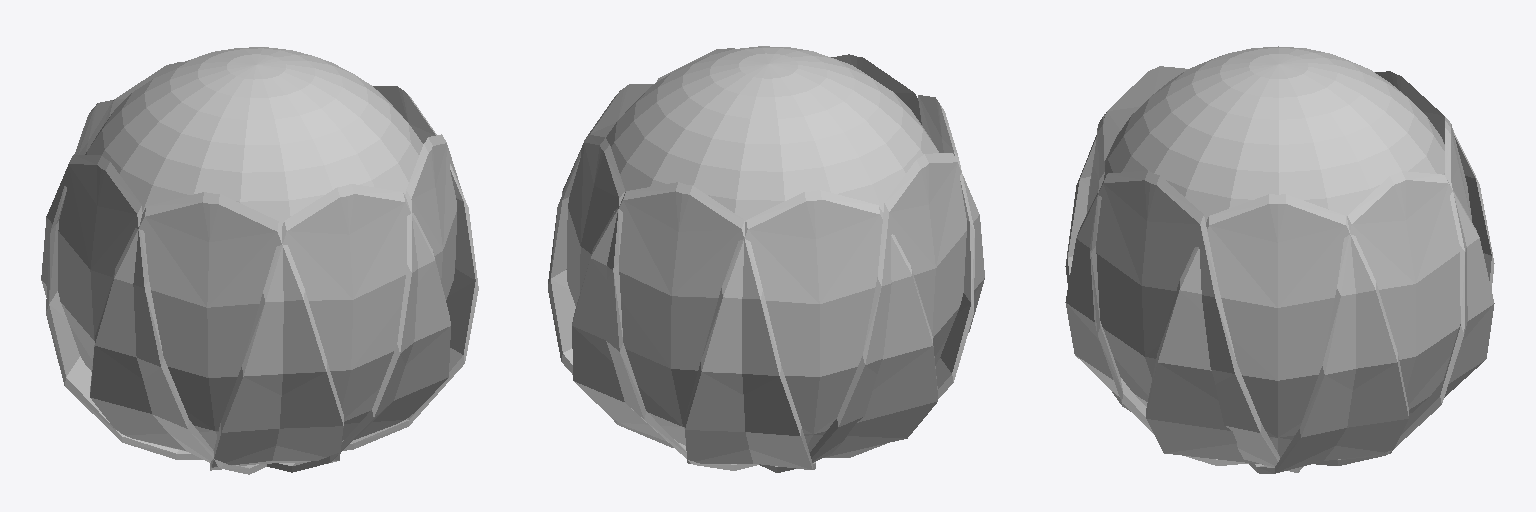
The model's file is CabbagePlant.obj.
3 views of the same model, side by side, from view 1: azimuth 30°, elevation 25°; view 2: azimuth 150°, elevation 25°; view 3: azimuth 270°, elevation 25° (orthographic).
Visible parts, largest first — view 1: pSphere2, polySurface6, polySurface5, polySurface2, polySurface7; view 2: polySurface7, pSphere2, polySurface5, polySurface2, polySurface6; view 3: polySurface2, pSphere2, polySurface6, polySurface7, polySurface5.
Boxes of the visible parts, x1,y1,x2,y2 form: pSphere2: [85, 47, 422, 228]; polySurface6: [90, 192, 343, 463]; polySurface5: [109, 62, 450, 470]; polySurface2: [41, 86, 478, 474]; polySurface7: [46, 100, 462, 472]; polySurface7: [656, 48, 937, 463]; pSphere2: [606, 46, 938, 221]; polySurface5: [572, 54, 921, 469]; polySurface2: [548, 84, 984, 472]; polySurface6: [562, 95, 974, 470]; polySurface2: [1146, 194, 1408, 464]; pSphere2: [1104, 46, 1444, 221]; polySurface6: [1065, 66, 1494, 473]; polySurface7: [1065, 71, 1494, 472]; polySurface5: [1086, 114, 1471, 465].
Bounding box in the file's own units: 1.65 × 1.61 × 1.63.